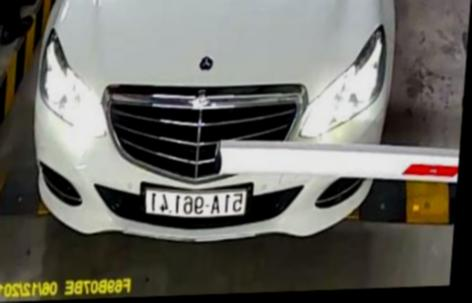License_Plate: (133, 182, 260, 226)
